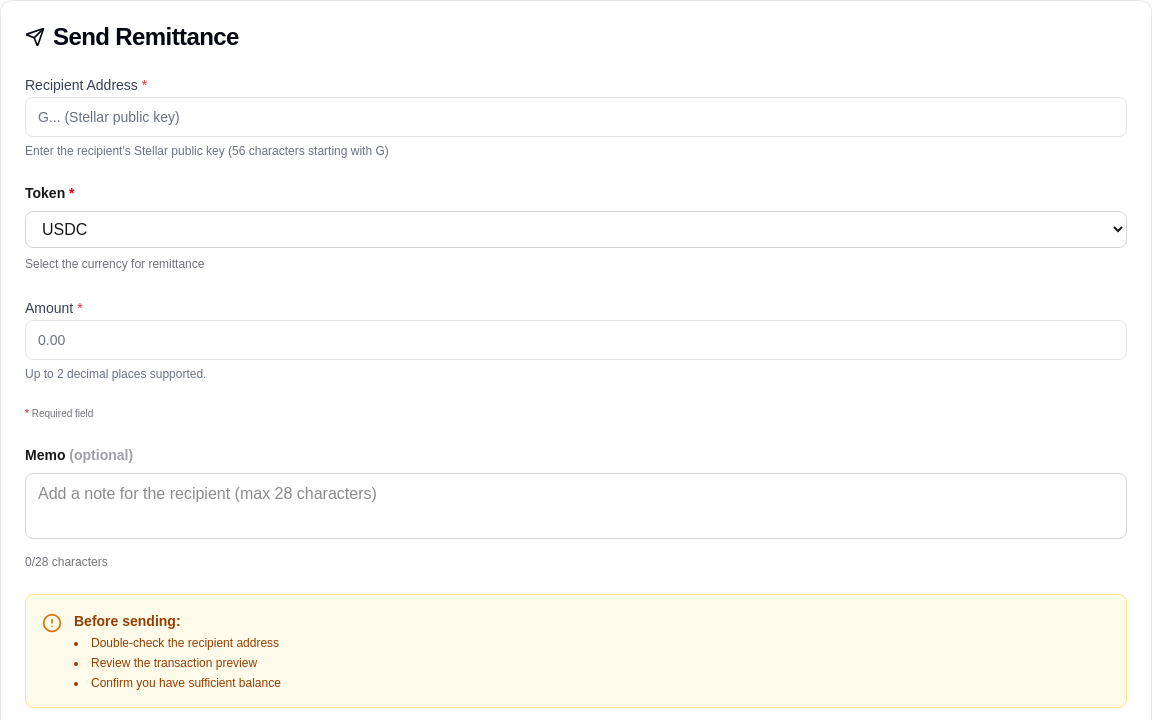
it: RemittanceForm › should display character count for memo
Type "Test memo" into the text box with placeholder "Add a note for the recipient (max 28 characters)" at (576, 506), box [25, 473, 1127, 539]
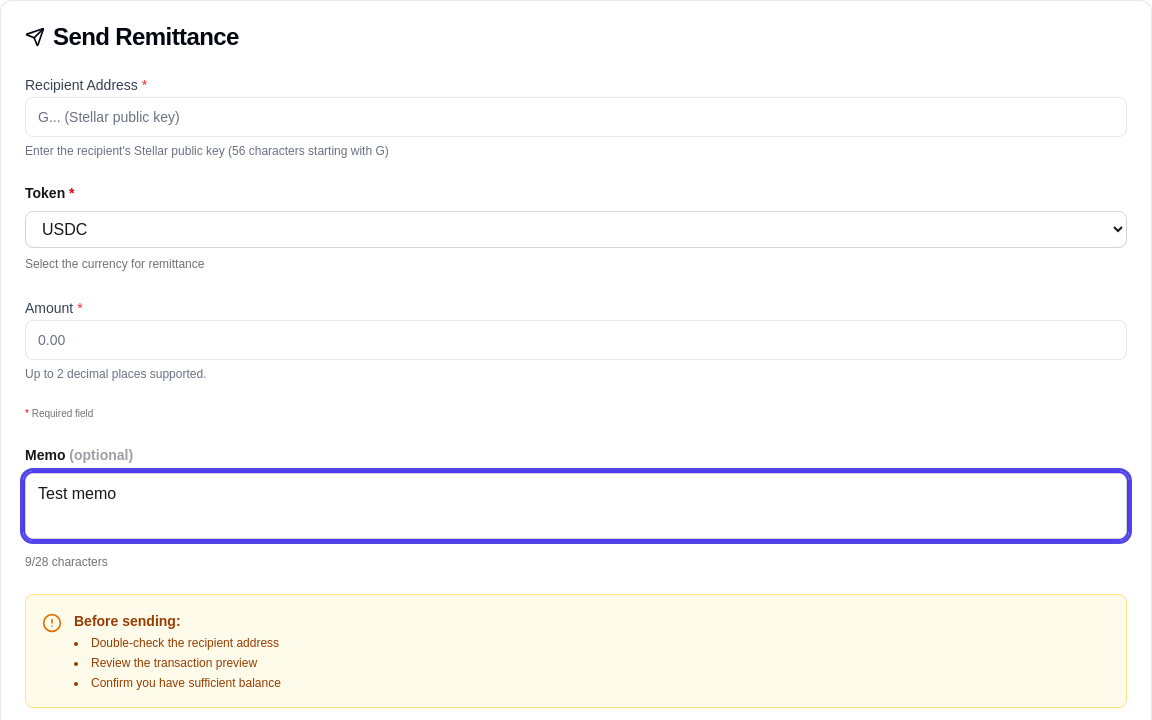
Expected: the text "9/28 characters" is shown, [25, 555, 108, 569]
